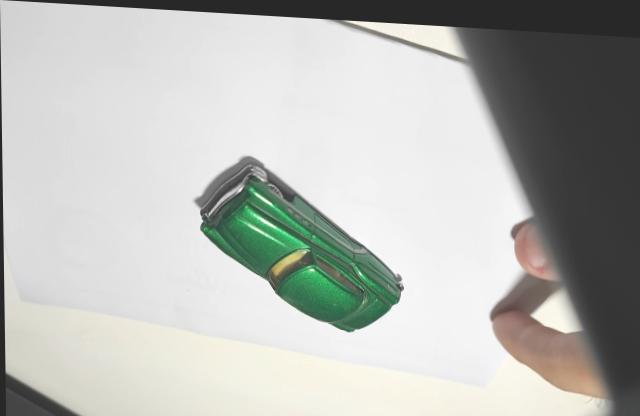06_MASERATI: (194, 151, 404, 327)
